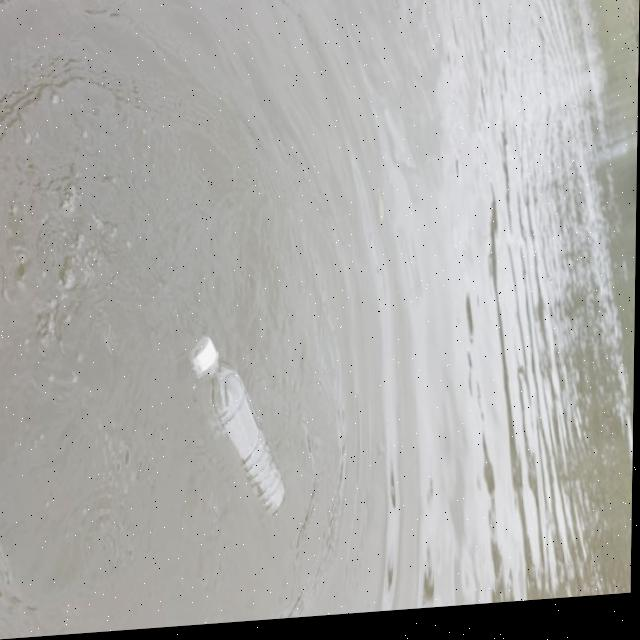waterbottle: (182, 321, 299, 565)
